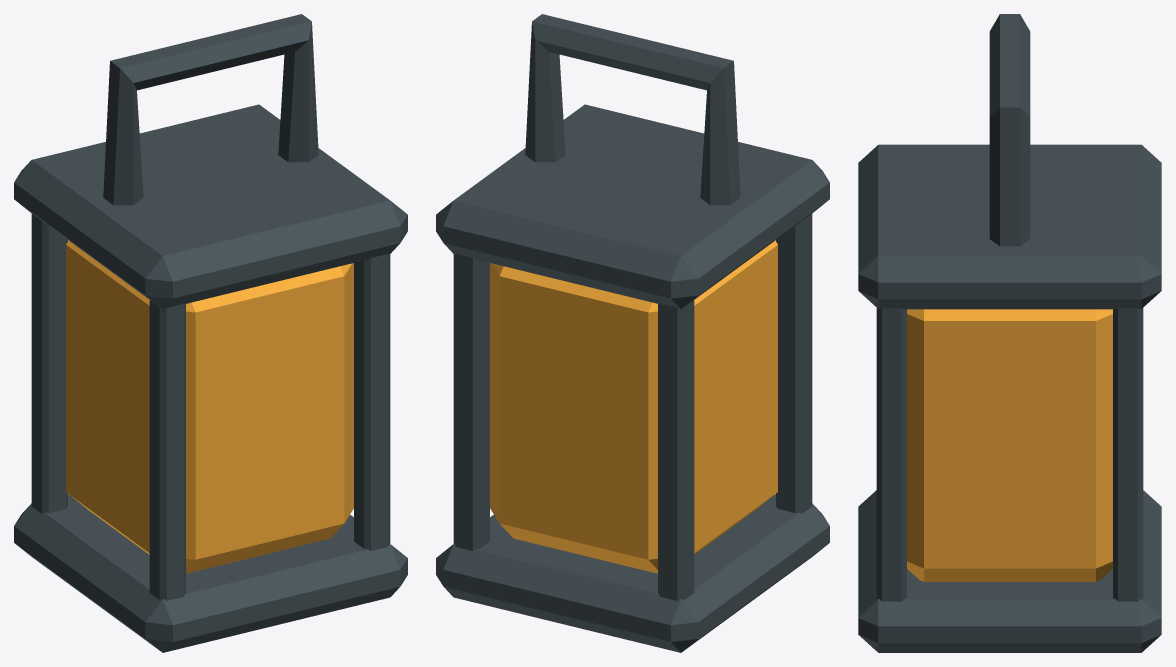
File: SM_NPC_Offhand_02_Lantern.glb
3 views of the same model, side by side, from view 1: azimuth 30°, elevation 25°; view 2: azimuth 150°, elevation 25°; view 3: azimuth 270°, elevation 25° (orthographic).
Parts seen in each view (by area): view 1: SM_NPC_Offhand_02_Lantern; view 2: SM_NPC_Offhand_02_Lantern; view 3: SM_NPC_Offhand_02_Lantern.
Part boxes in pixels (left/top/right/bottom): SM_NPC_Offhand_02_Lantern: left=14, top=14, right=407, bottom=652; SM_NPC_Offhand_02_Lantern: left=436, top=14, right=829, bottom=652; SM_NPC_Offhand_02_Lantern: left=858, top=14, right=1161, bottom=652.
Size of the model in its own units: 0.18 by 0.3511 by 0.18.
